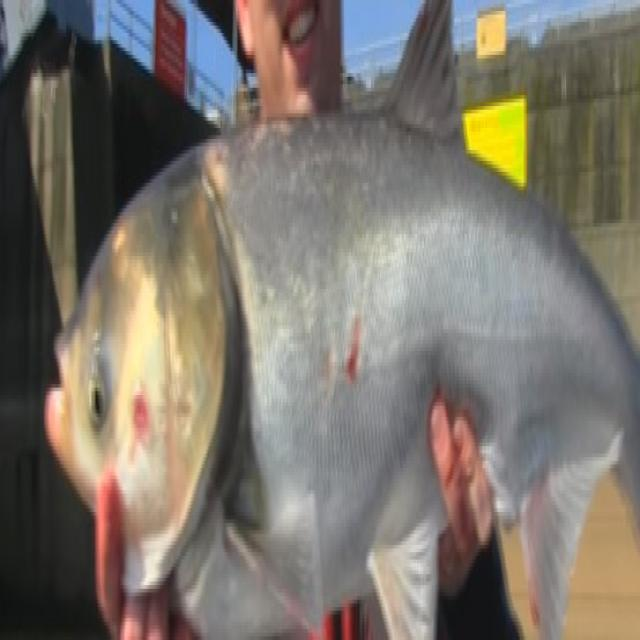Big-Head-Carp: (11, 40, 636, 625)
